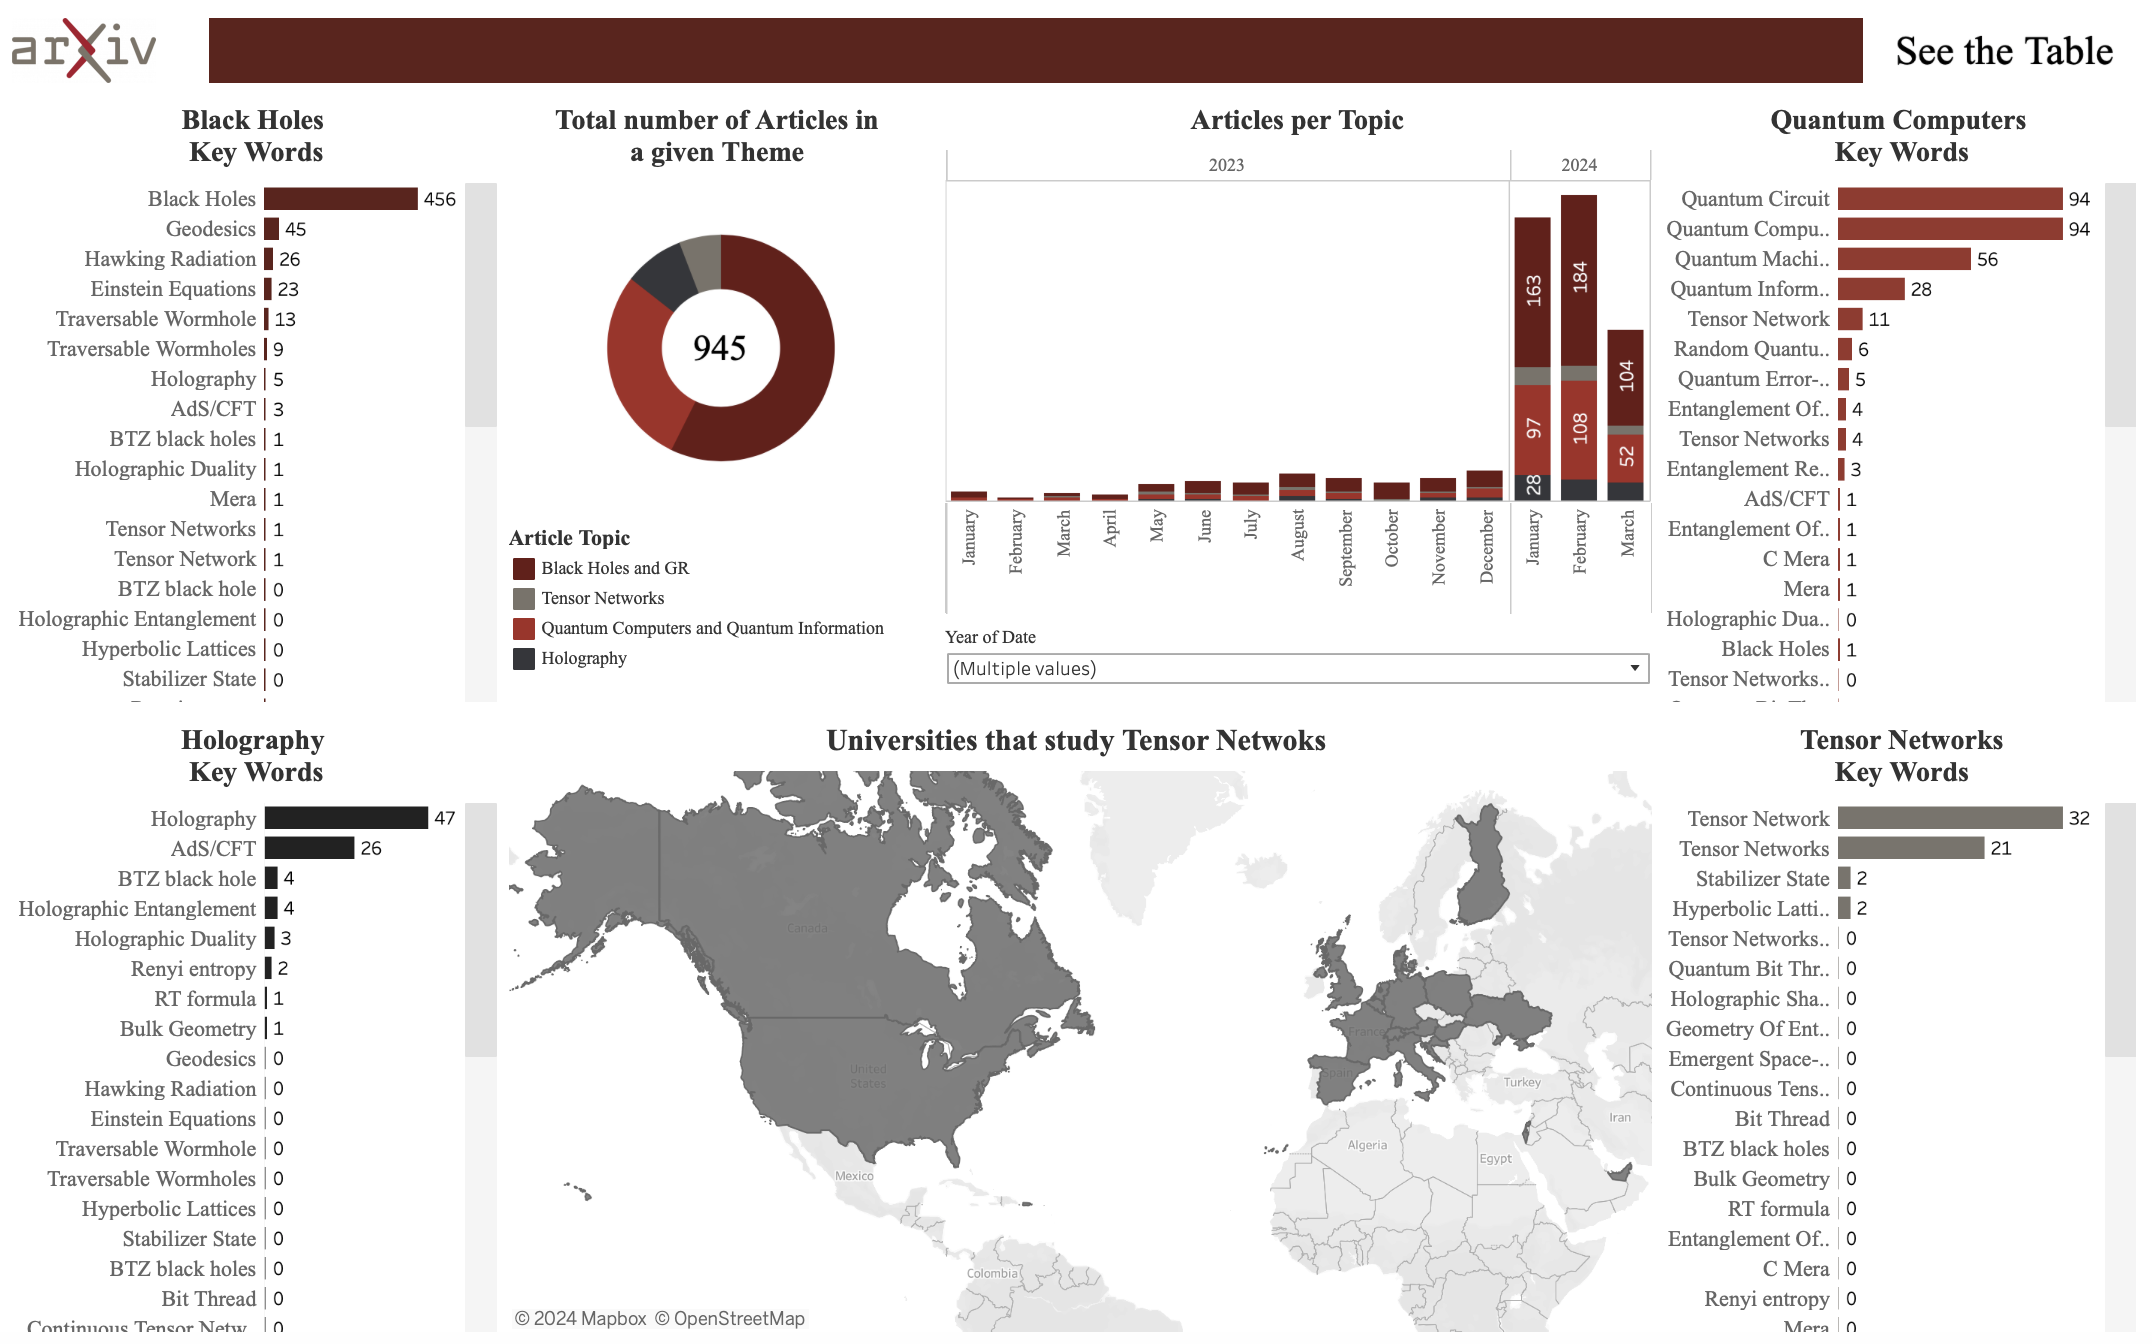

Layout of this report page (visuals, bound fields, positions):
{"tool":"tableau","page":{"name":"(1) Overall Info","canvas":[1440,900],"ordinal":0},"visuals":[{"type":"image","param":"Image/ArXiv_logo_2022.png","box":[8,8,131,51]},{"type":"worksheet","title":"(1) Header","mark":"Automatic","box":[139,8,1111,51]},{"type":"worksheet","title":"(2) See the Table","mark":"Automatic","box":[1250,8,182,51]},{"type":"worksheet","title":"(1) Key Words Black Holes","mark":"Automatic","box":[8,59,331,413.1]},{"type":"worksheet","title":"(1) Total Number of Articles(Theme, Time)","mark":"Pie","cols":["Calculation_49117388099153938","Calculation_49117388099305492"],"box":[339,59,291,286.6]},{"type":"worksheet","title":"(1) Articles(Theme, Time)","mark":"Bar","rows":["Calculation_49117388086214665"],"cols":["Date","Date"],"box":[629.9,59,479,355.1]},{"type":"worksheet","title":"(1) Key Words Quant Comp","mark":"Automatic","box":[1109,59,323,413.1]},{"type":"legend","title":"(1) Articles(Theme, Time)","param":"[federated.11ge23l07ig36d1dgb0zs0k8q1xx].[none:Topic (03_04_2024_table__key_word","box":[339,345.6,291,126.5]},{"type":"filter","title":"(1) Articles(Theme, Time)","param":"[federated.11ge23l07ig36d1dgb0zs0k8q1xx].[yr:Date:ok]","box":[629.9,414.2,479,58]},{"type":"worksheet","title":"(1) Key Words Holography","mark":"Automatic","box":[8,472.1,331,419.9]},{"type":"worksheet","title":"(1) Overall Map","mark":"Multipolygon","box":[339,472.1,770,419.9]},{"type":"worksheet","title":"(1) Key Words TN","mark":"Automatic","box":[1109,472.1,323,419.9]}]}

Visuals, with their boxes in screenshot pixels (x1, y1, x2, y2), scaled from the page's 1440x900 canvas onto the 2152x1344 screenshot:
image: box(12, 12, 208, 88)
"(1) Header" worksheet: box(208, 12, 1868, 88)
"(2) See the Table" worksheet: box(1868, 12, 2140, 88)
"(1) Key Words Black Holes" worksheet: box(12, 88, 507, 705)
"(1) Total Number of Articles(Theme, Time)" worksheet (Pie marks): box(507, 88, 942, 516)
"(1) Articles(Theme, Time)" worksheet (Bar marks): box(941, 88, 1657, 618)
"(1) Key Words Quant Comp" worksheet: box(1657, 88, 2140, 705)
"(1) Articles(Theme, Time)" legend: box(507, 516, 942, 705)
"(1) Articles(Theme, Time)" filter: box(941, 619, 1657, 705)
"(1) Key Words Holography" worksheet: box(12, 705, 507, 1332)
"(1) Overall Map" worksheet (Multipolygon marks): box(507, 705, 1657, 1332)
"(1) Key Words TN" worksheet: box(1657, 705, 2140, 1332)
